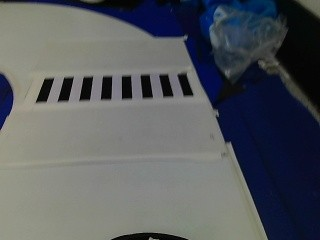crosswalk: (32, 71, 195, 103)
